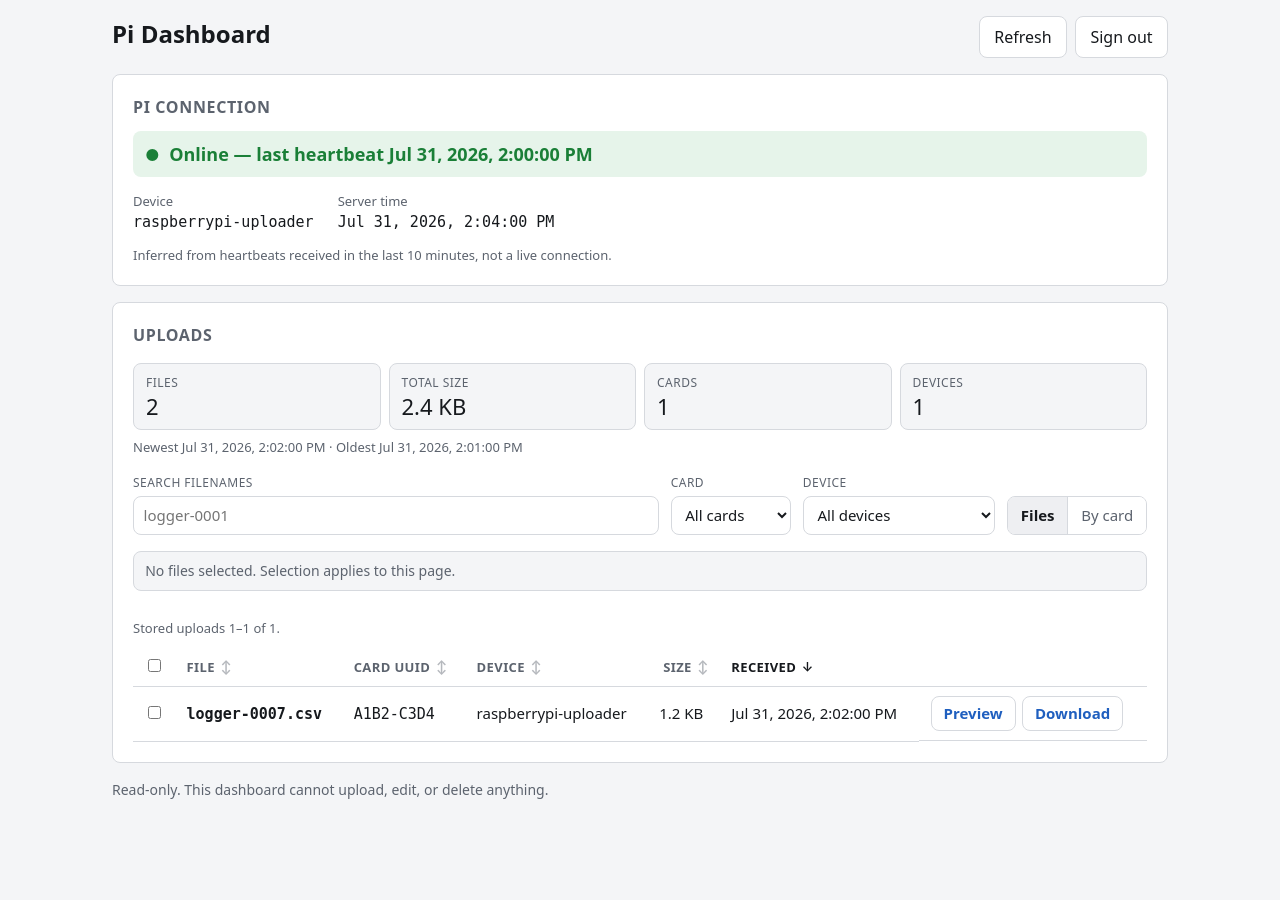
Test case: grouped by card › drops the columns an expanded group already fixes
Click the button "By card" at (1107, 515), box [1067,497,1146,534]
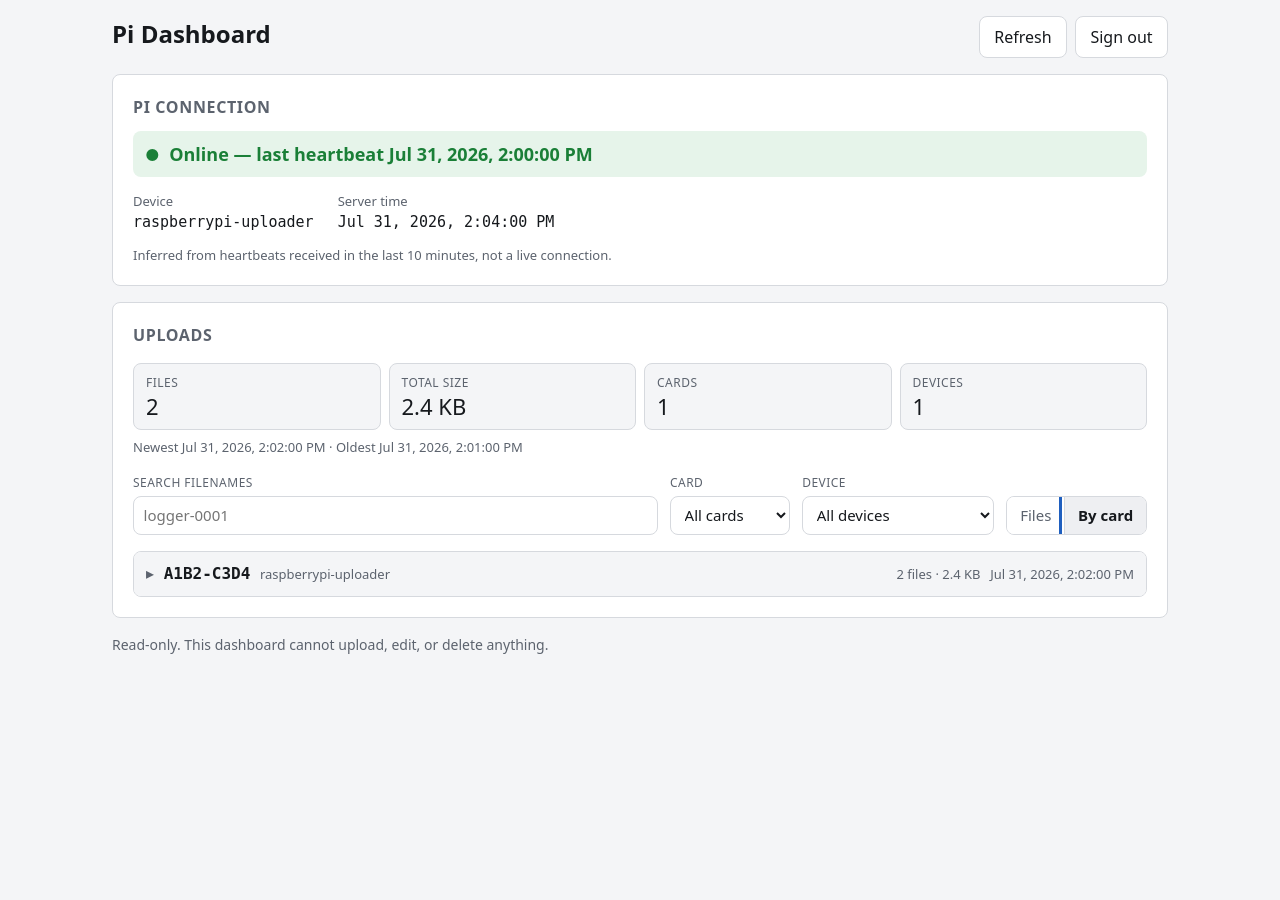
Click the button "A1B2-C3D4" at (207, 574), box [134,552,1146,596]
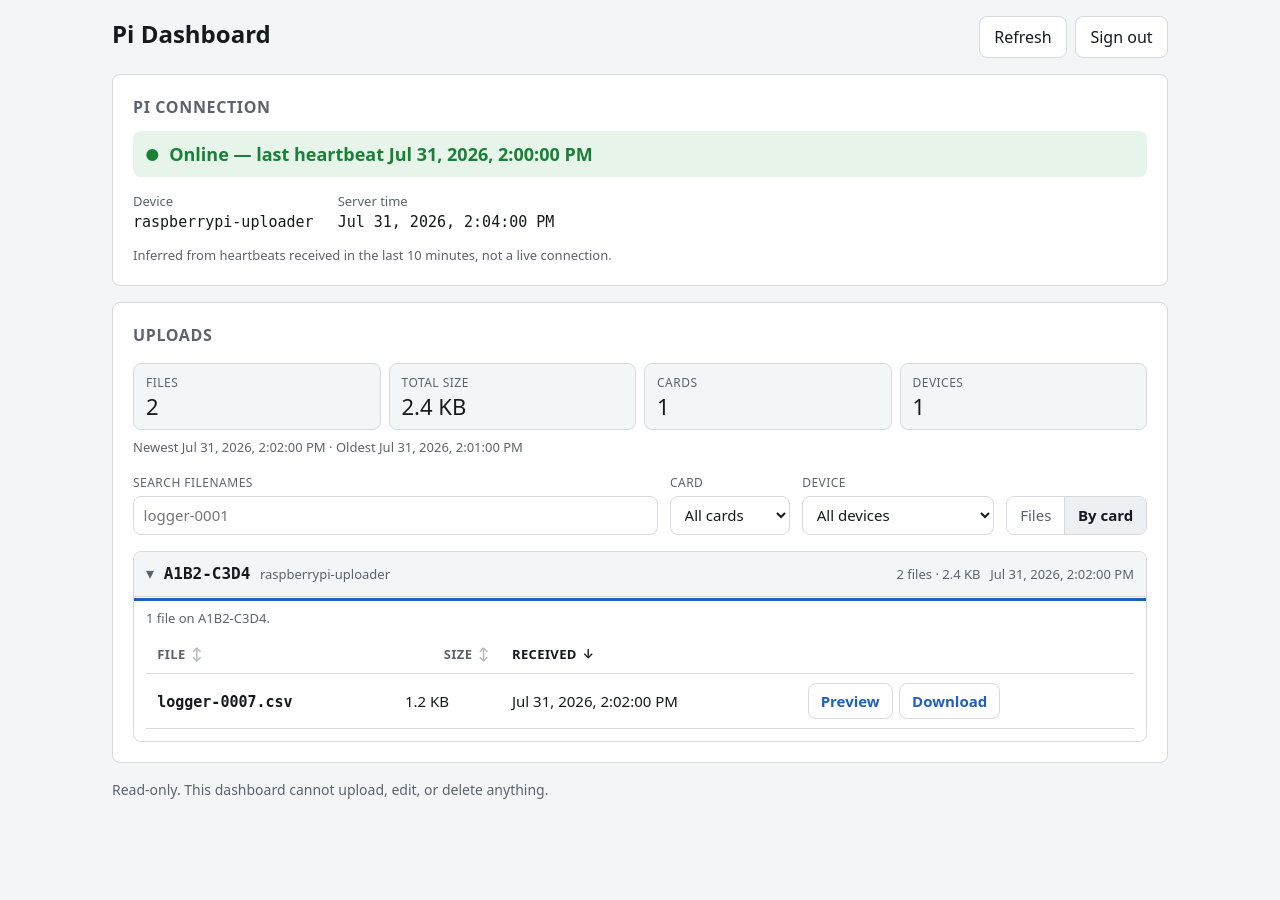
Expected: the button "Card UUID" is not shown
Expected: the column heading "logger-0007.csv" is shown, [146,674,394,729]
